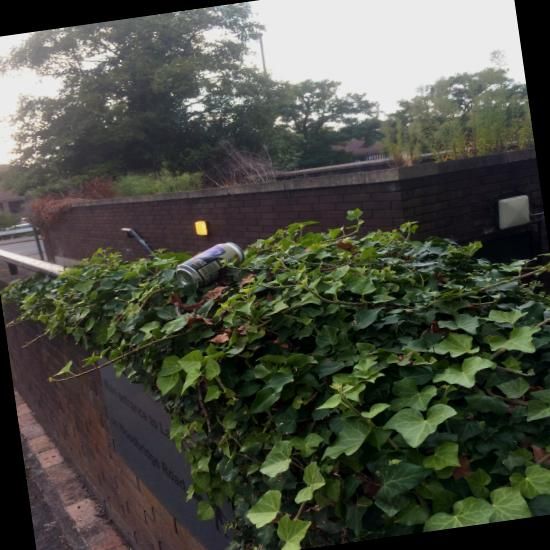Drink can: (176, 242, 244, 287)
